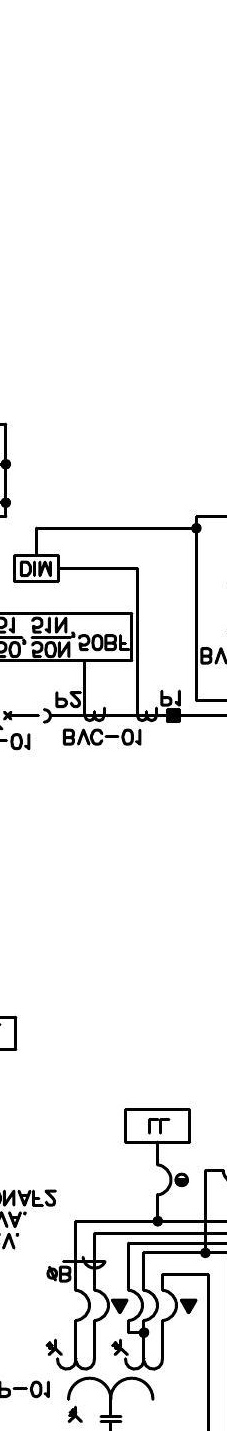115_cvt_3p: (45, 1338, 165, 1423)
DIM: (13, 554, 60, 583)
LL: (124, 1108, 191, 1144)
